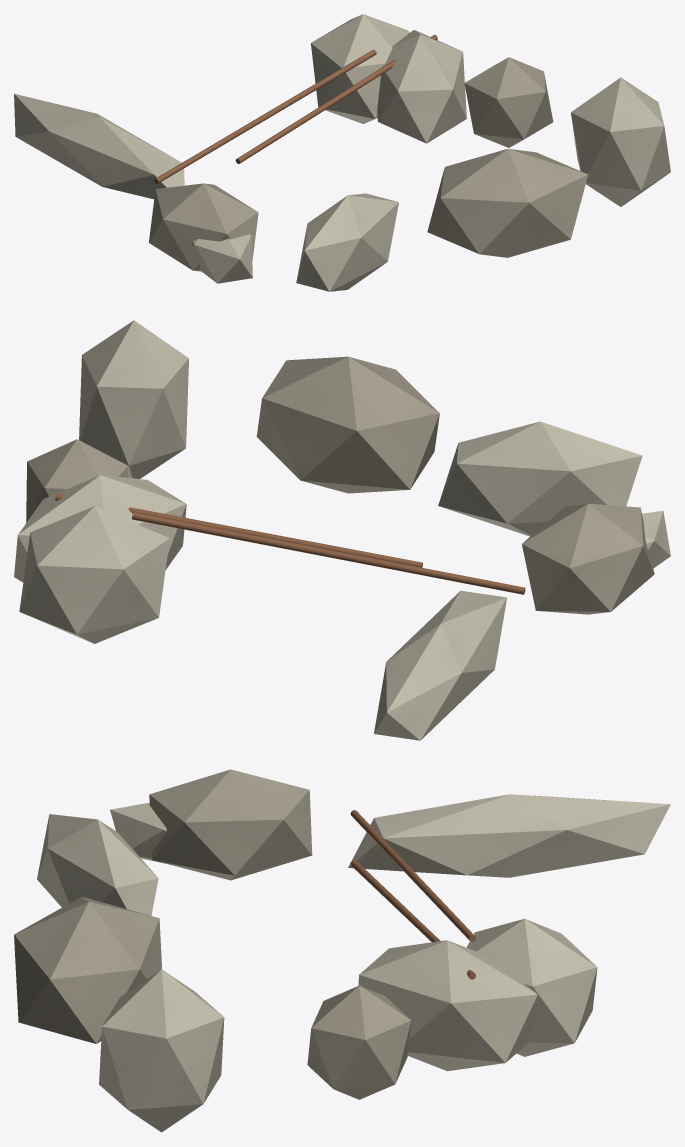
The model's file is Rubble_Cluster_3.glb.
3 views of the same model, one above another, from view 1: azimuth 30°, elevation 25°; view 2: azimuth 150°, elevation 25°; view 3: azimuth 270°, elevation 25° (orthographic). The views are drawn at different scales.
Visible parts, largest first — view 1: Rubble_Cluster_3; view 2: Rubble_Cluster_3; view 3: Rubble_Cluster_3.
Boxes of the visible parts, x1=… form: Rubble_Cluster_3: x1=14, y1=14, x2=670, y2=291; Rubble_Cluster_3: x1=14, y1=320, x2=670, y2=740; Rubble_Cluster_3: x1=14, y1=769, x2=670, y2=1132.
Bounding box in the file's own units: 2.31 × 0.6086 × 2.22.
Materials: 3 (3 with a texture image).
